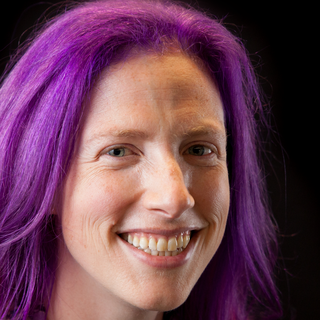eye: (95, 142, 143, 163), (176, 139, 219, 159)
